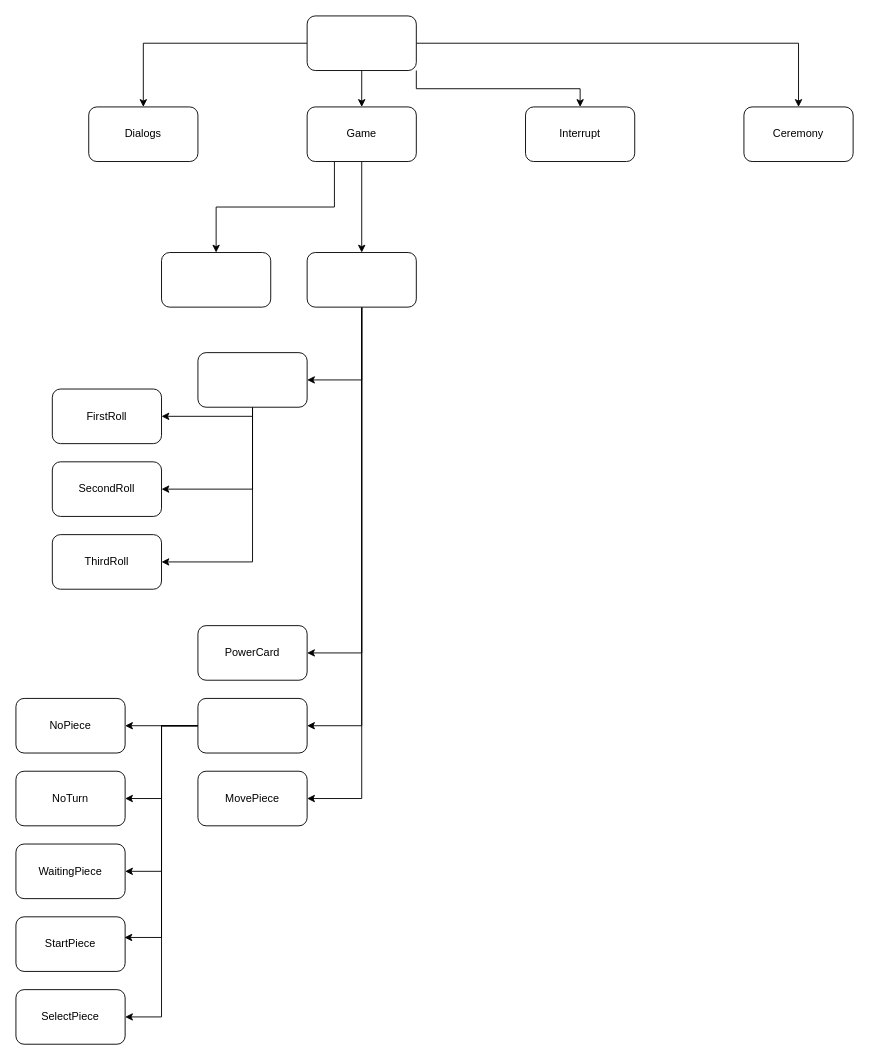
Image size: 869x1060. Some labels were removed from this diagram. The centre of each missing label's shape, as x and y in pixels:
ChoosePiece: [252,725]
DetermineStartP layer: [216,279]
RollDice: [252,379]
ServerState: [361,43]
Turn: [361,279]
